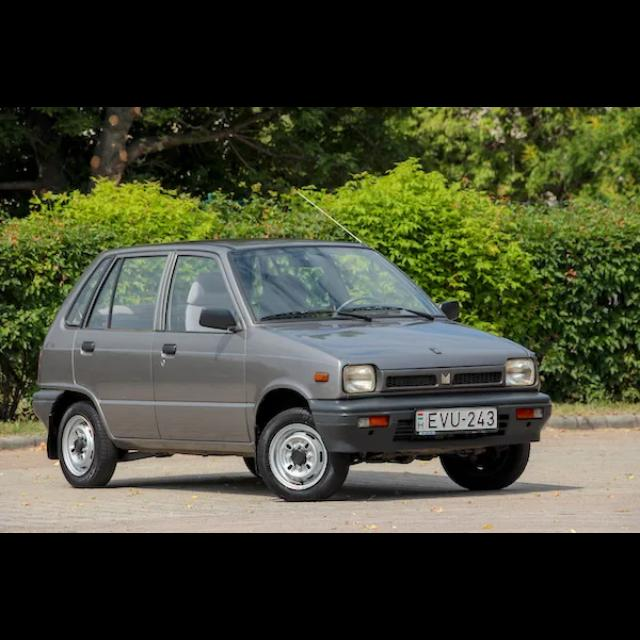number-plate: (416, 409, 501, 433)
vehicles: (31, 240, 557, 507)
